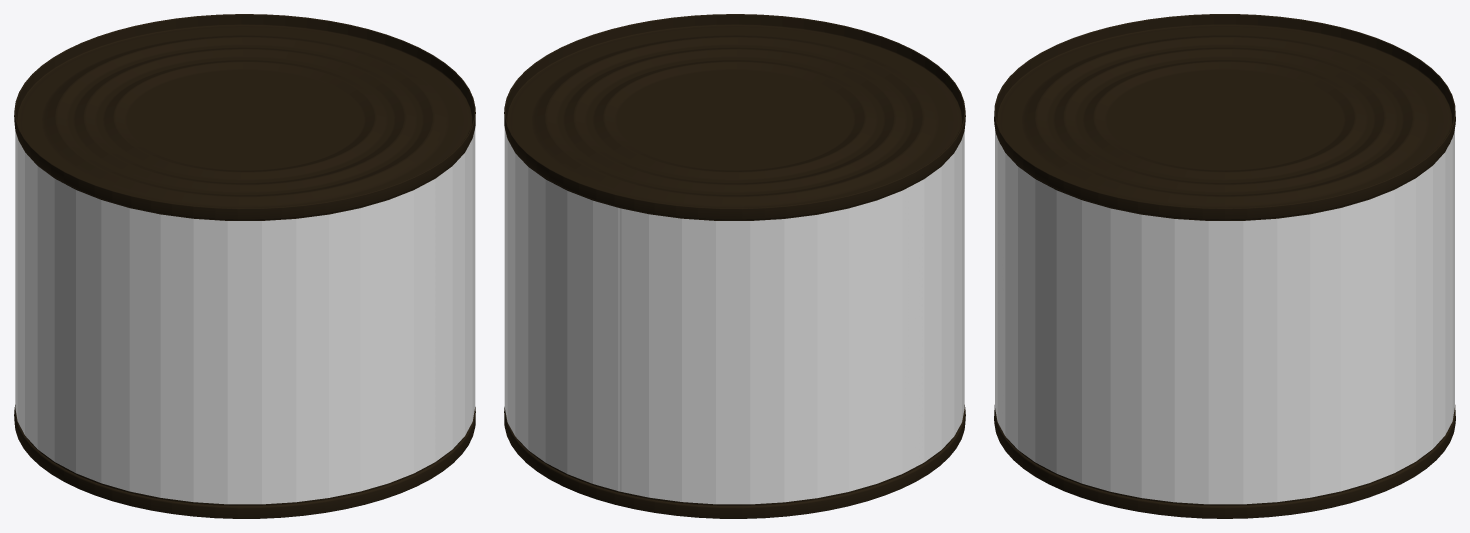
Rendered from fatCan.FBX.
The picture shows the model from 3 angles, left to right: view 1: azimuth 30°, elevation 25°; view 2: azimuth 150°, elevation 25°; view 3: azimuth 270°, elevation 25°; orthographic projection.
Parts seen in each view (by area): view 1: Plane005, Line092; view 2: Plane005, Line092; view 3: Plane005, Line092.
Part boxes in pixels (bbox=[...]): Plane005: bbox=[15, 128, 475, 504]; Line092: bbox=[14, 14, 475, 518]; Plane005: bbox=[504, 128, 964, 504]; Line092: bbox=[504, 14, 965, 518]; Plane005: bbox=[995, 129, 1454, 504]; Line092: bbox=[994, 14, 1455, 518].
Size of the model in its own units: 58.47 by 43.4 by 58.49.
